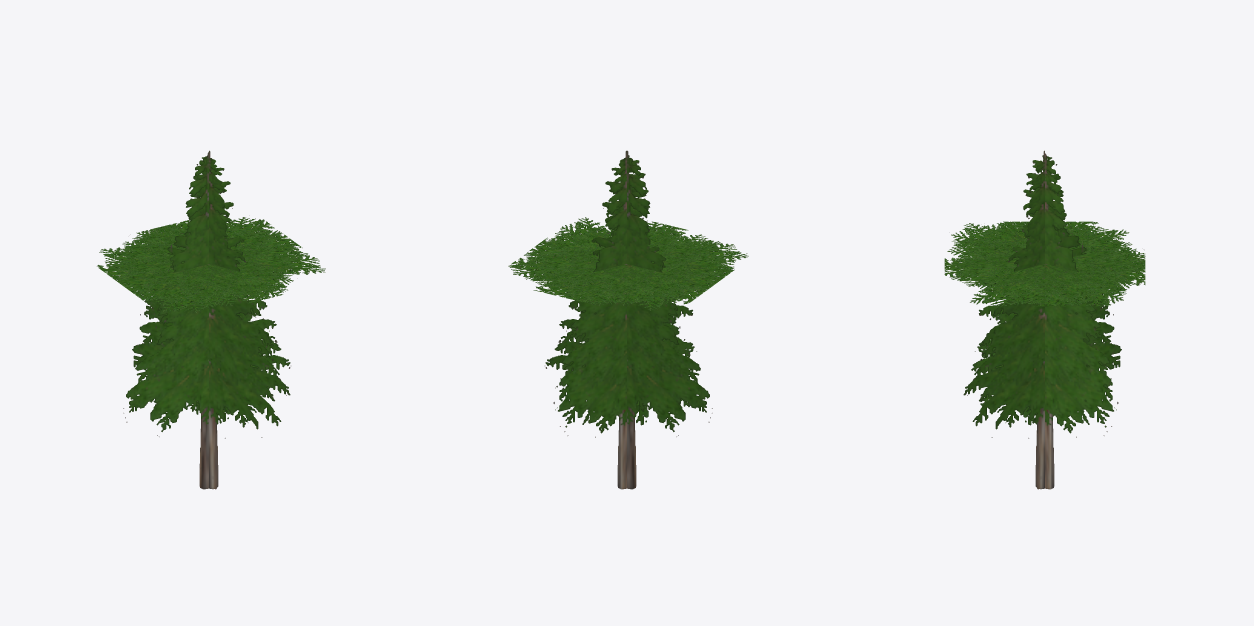
File: tree_conifer_03_far.glb
3 renders of one model, left to right at view 1: azimuth 30°, elevation 25°; view 2: azimuth 150°, elevation 25°; view 3: azimuth 270°, elevation 25°, orthographic.
Visible parts, largest first — view 1: env; view 2: env; view 3: env.
Boxes of the visible parts, left/top/right/bottom form: env: left=97, top=150, right=325, bottom=489; env: left=508, top=150, right=748, bottom=489; env: left=944, top=150, right=1145, bottom=489.
Bounding box in the file's own units: 5.83 × 5.83 × 5.05.
1 material, 1 textured.
